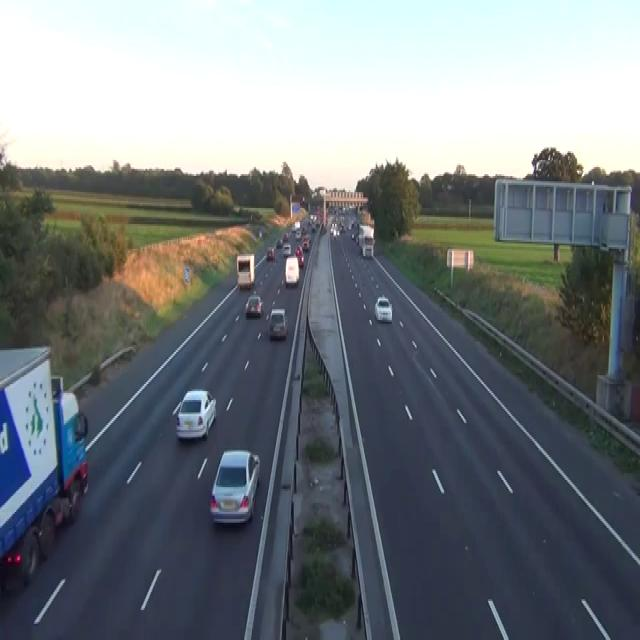Car: (209, 448, 260, 524), (173, 387, 216, 441), (268, 308, 287, 338), (374, 295, 392, 322), (244, 294, 263, 316), (361, 235, 374, 258), (295, 245, 304, 267), (330, 222, 339, 238), (357, 224, 364, 244), (282, 242, 291, 256), (266, 247, 274, 260), (301, 237, 309, 250), (295, 245, 302, 256), (282, 231, 288, 242), (333, 228, 339, 238), (321, 222, 326, 233), (351, 229, 356, 240), (276, 238, 282, 247), (300, 226, 306, 234), (340, 224, 345, 233), (295, 230, 300, 238), (258, 228, 262, 236), (311, 224, 315, 231)
Truck: (0, 343, 88, 592), (236, 252, 254, 288), (358, 224, 374, 258), (284, 254, 299, 286)
